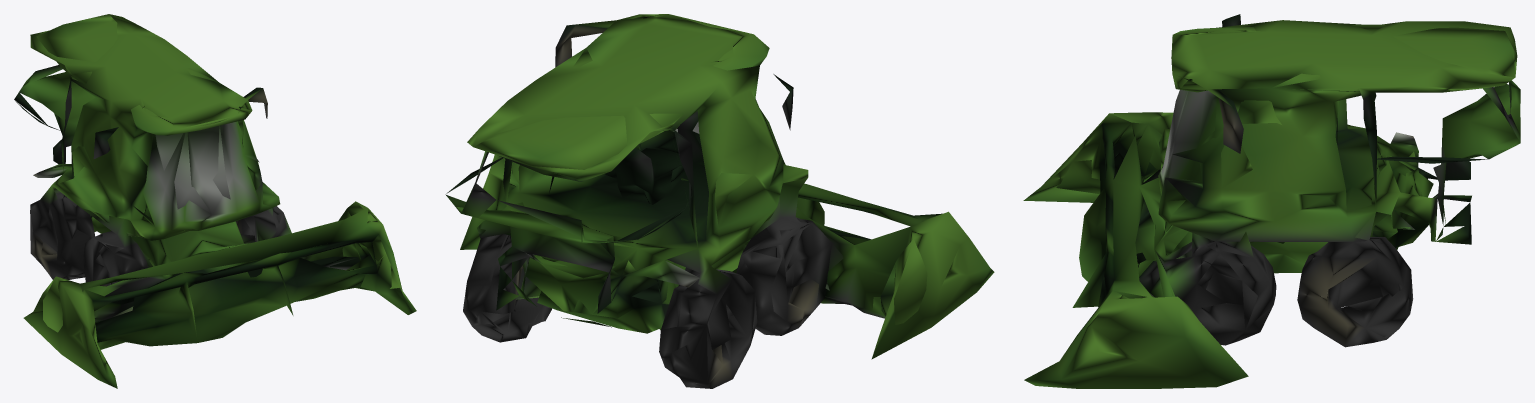
File: gen3d-combine-harvester-lod0.glb
3 views of the same model, side by side, from view 1: azimuth 30°, elevation 25°; view 2: azimuth 150°, elevation 25°; view 3: azimuth 270°, elevation 25° (orthographic). The views are drawn at different scales.
Visible parts, largest first — view 1: part_0; view 2: part_0; view 3: part_0.
Part boxes in pixels (<box>): part_0: <box>14,14,416,388</box>; part_0: <box>445,14,994,388</box>; part_0: <box>1023,14,1520,388</box>.
Size of the model in its own units: 1.64 by 1 by 1.81.
